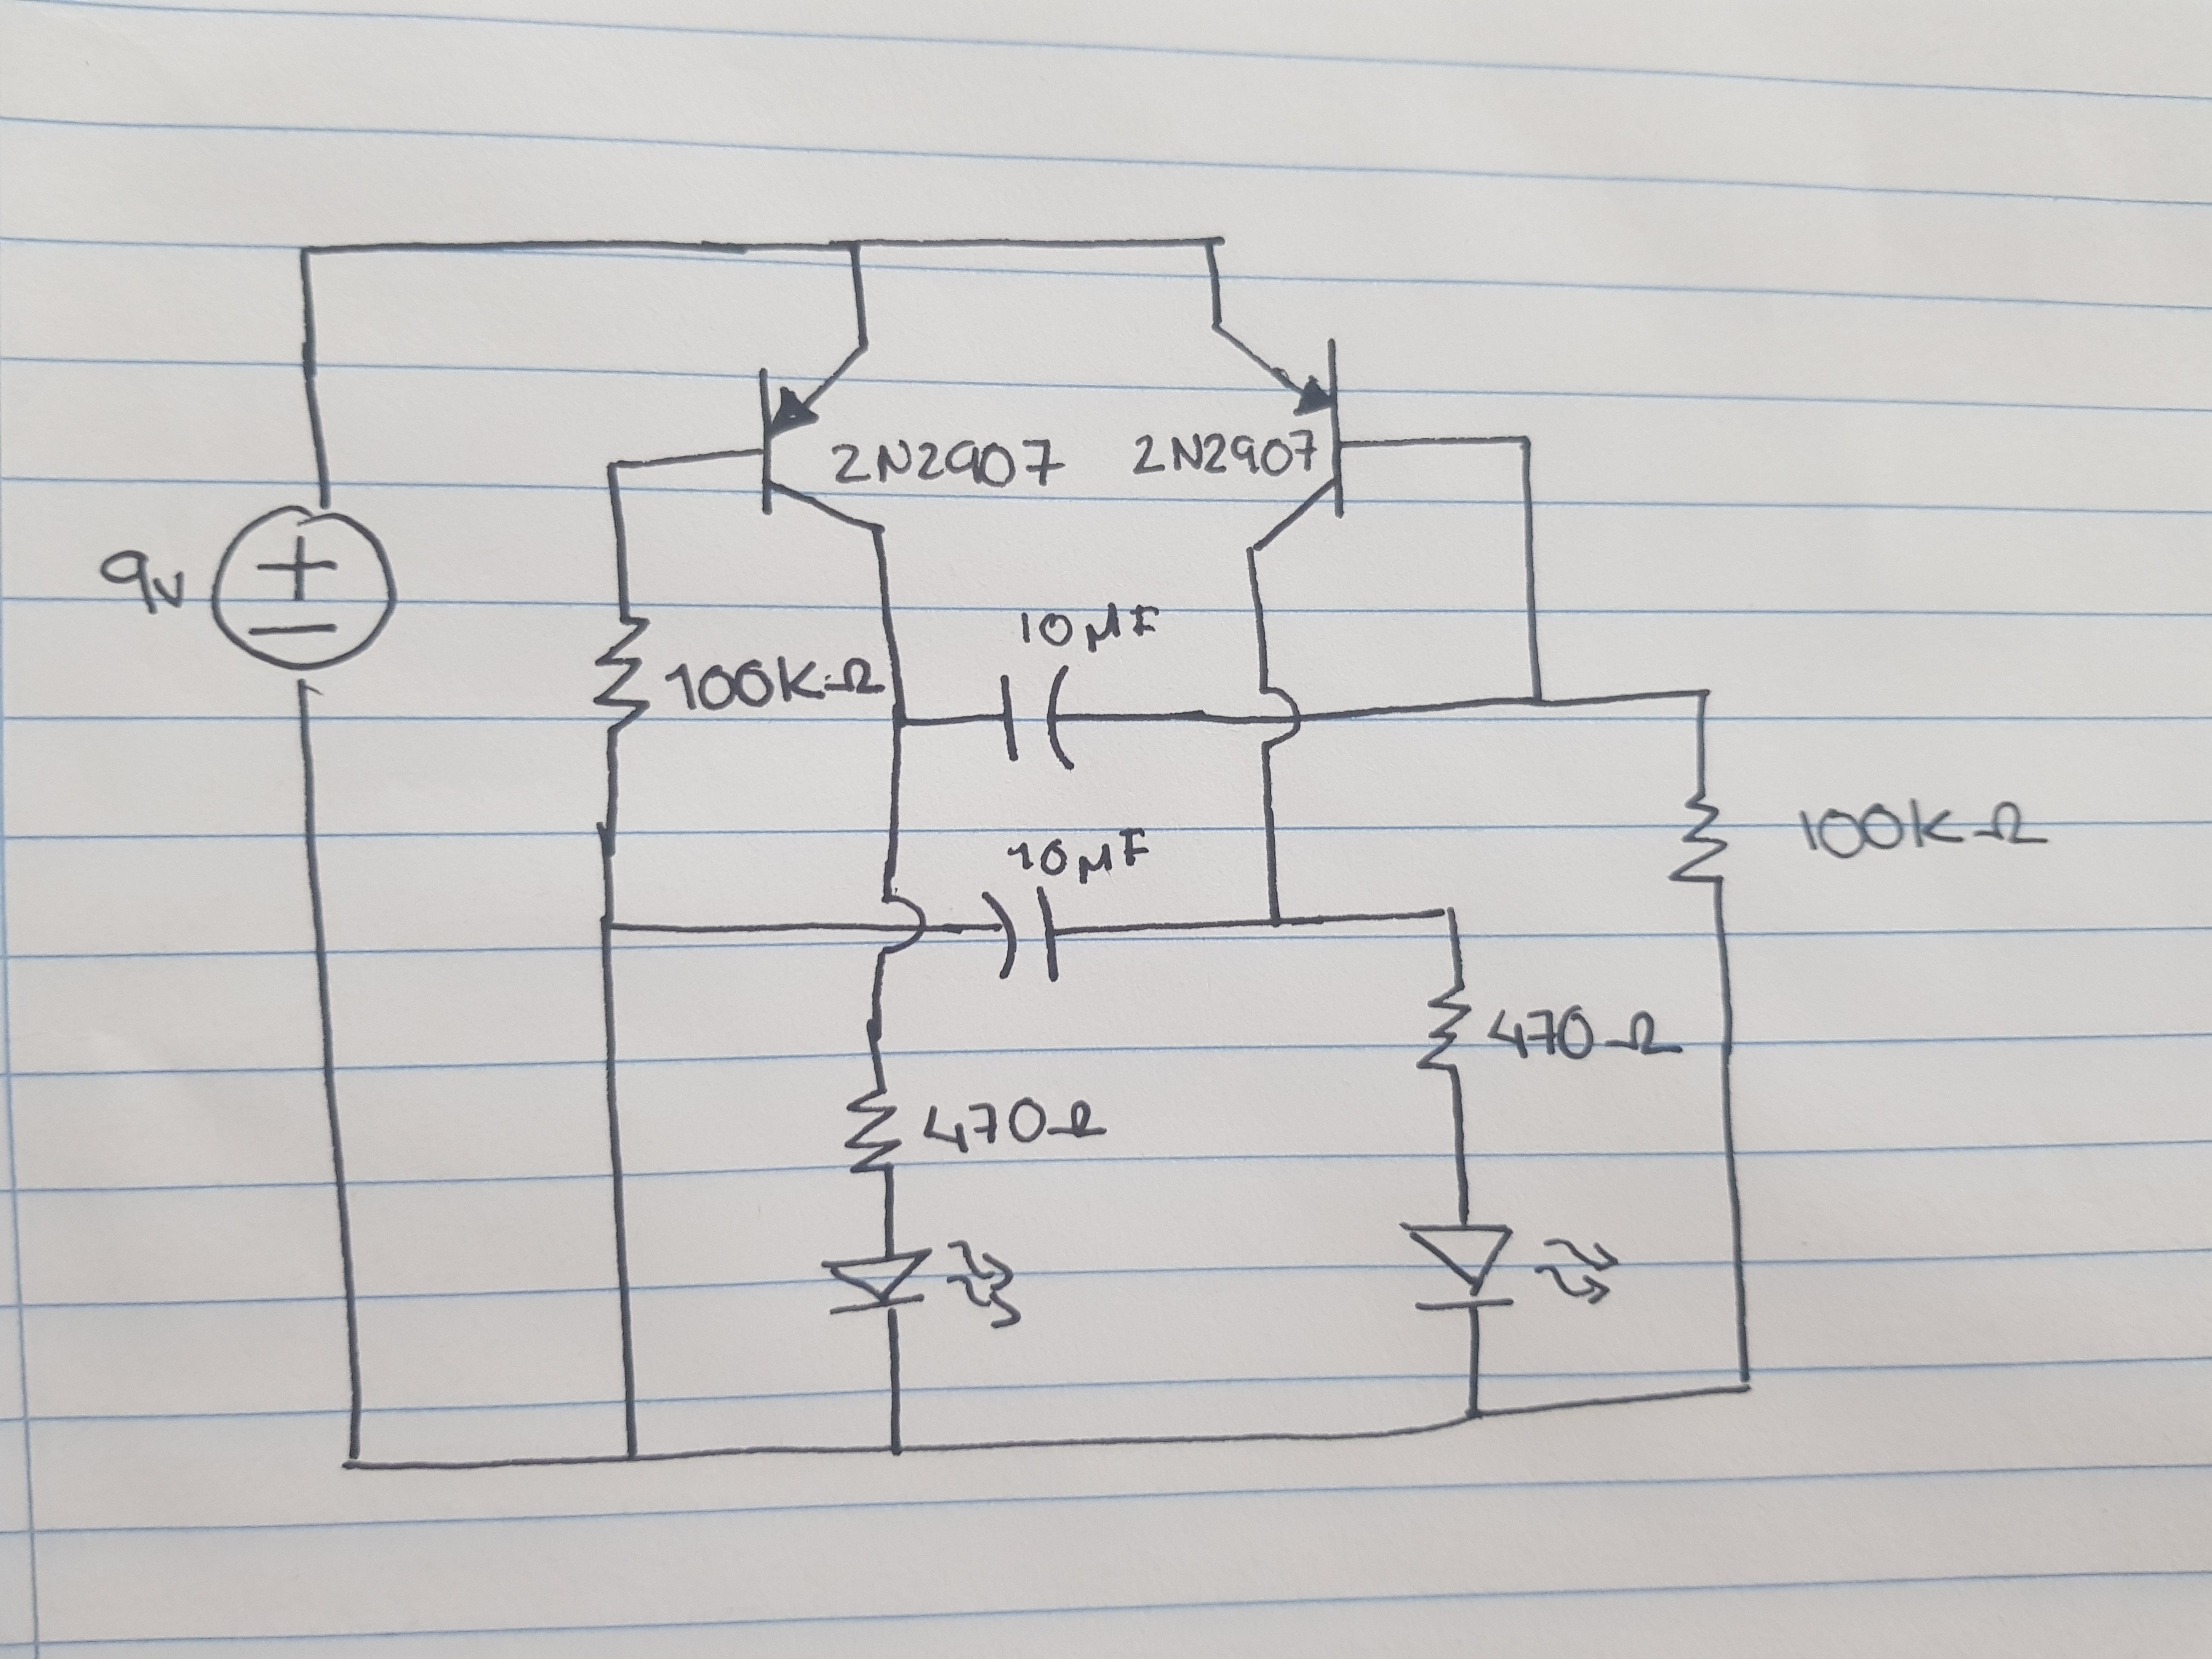capacitor.unpolarized: (982, 653, 1087, 784), (970, 877, 1076, 990)
crossover: (867, 885, 927, 962), (1249, 681, 1305, 758)
diode.light_emitting: (1390, 1215, 1625, 1321), (815, 1236, 1028, 1337)
junction: (1712, 1359, 1773, 1420), (1672, 671, 1721, 721), (1254, 899, 1303, 948), (1514, 674, 1559, 727), (587, 901, 634, 948), (1190, 227, 1238, 268), (608, 1434, 651, 1476), (1421, 894, 1470, 931), (331, 1436, 369, 1481), (1501, 427, 1541, 469), (1454, 1398, 1496, 1438), (874, 1429, 913, 1469), (592, 450, 632, 484), (289, 237, 327, 272), (883, 711, 918, 739), (841, 230, 869, 263)
resistor: (589, 599, 662, 742), (1660, 777, 1738, 903), (840, 1068, 913, 1190), (1409, 974, 1477, 1091)
text: (1791, 793, 2057, 864), (829, 430, 1066, 493), (1484, 999, 1684, 1066), (662, 657, 876, 716), (920, 1089, 1108, 1154), (1130, 429, 1317, 481), (1001, 824, 1160, 885), (1015, 599, 1167, 660), (92, 542, 190, 627)
transistor: (1195, 308, 1362, 566), (742, 329, 899, 544)
voltage.dc: (199, 498, 408, 685)
